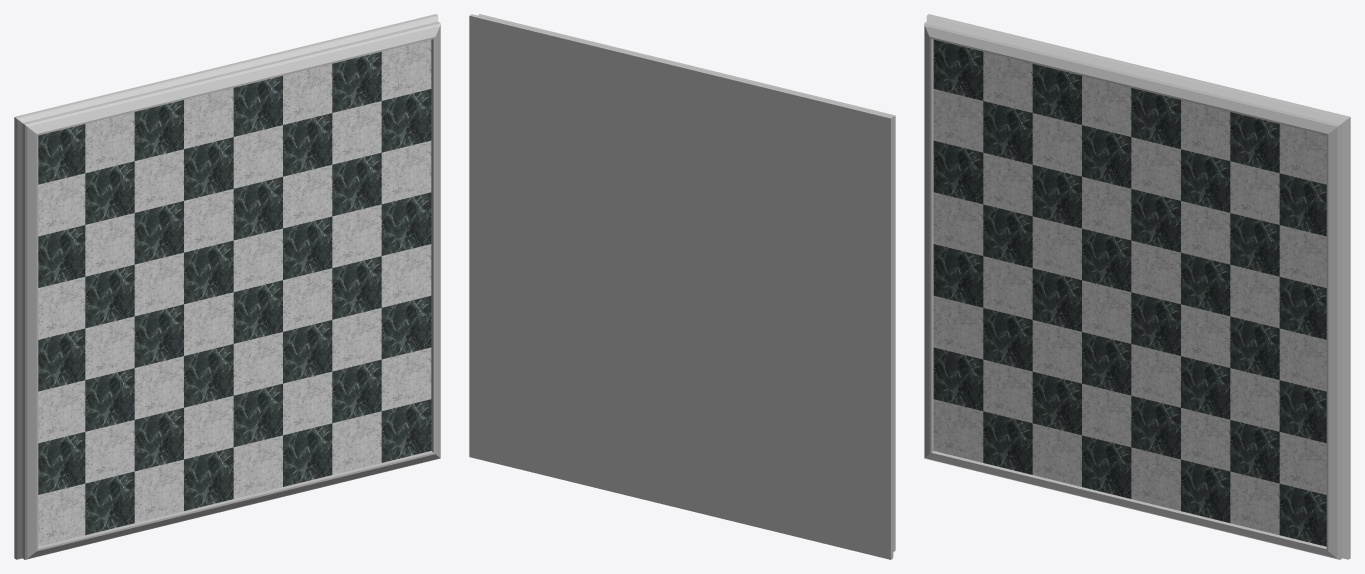
File: chess_board.obj
3 views of the same model, side by side, from view 1: azimuth 30°, elevation 25°; view 2: azimuth 150°, elevation 25°; view 3: azimuth 330°, elevation 25° (orthographic).
Visible parts, largest first — view 1: Black_Squares_Plane.057, White_Squares_Plane.059, Cube; view 2: Cube; view 3: White_Squares_Plane.059, Black_Squares_Plane.057, Cube.
Boxes of the visible parts, bbox=[...] form: Black_Squares_Plane.057: bbox=[38, 52, 431, 535]; White_Squares_Plane.059: bbox=[38, 39, 431, 546]; Cube: bbox=[14, 14, 440, 559]; Cube: bbox=[469, 14, 895, 559]; White_Squares_Plane.059: bbox=[933, 52, 1326, 535]; Black_Squares_Plane.057: bbox=[933, 39, 1326, 546]; Cube: bbox=[924, 14, 1350, 559].
Size of the model in its own units: 17.07 by 17.07 by 0.7633.
